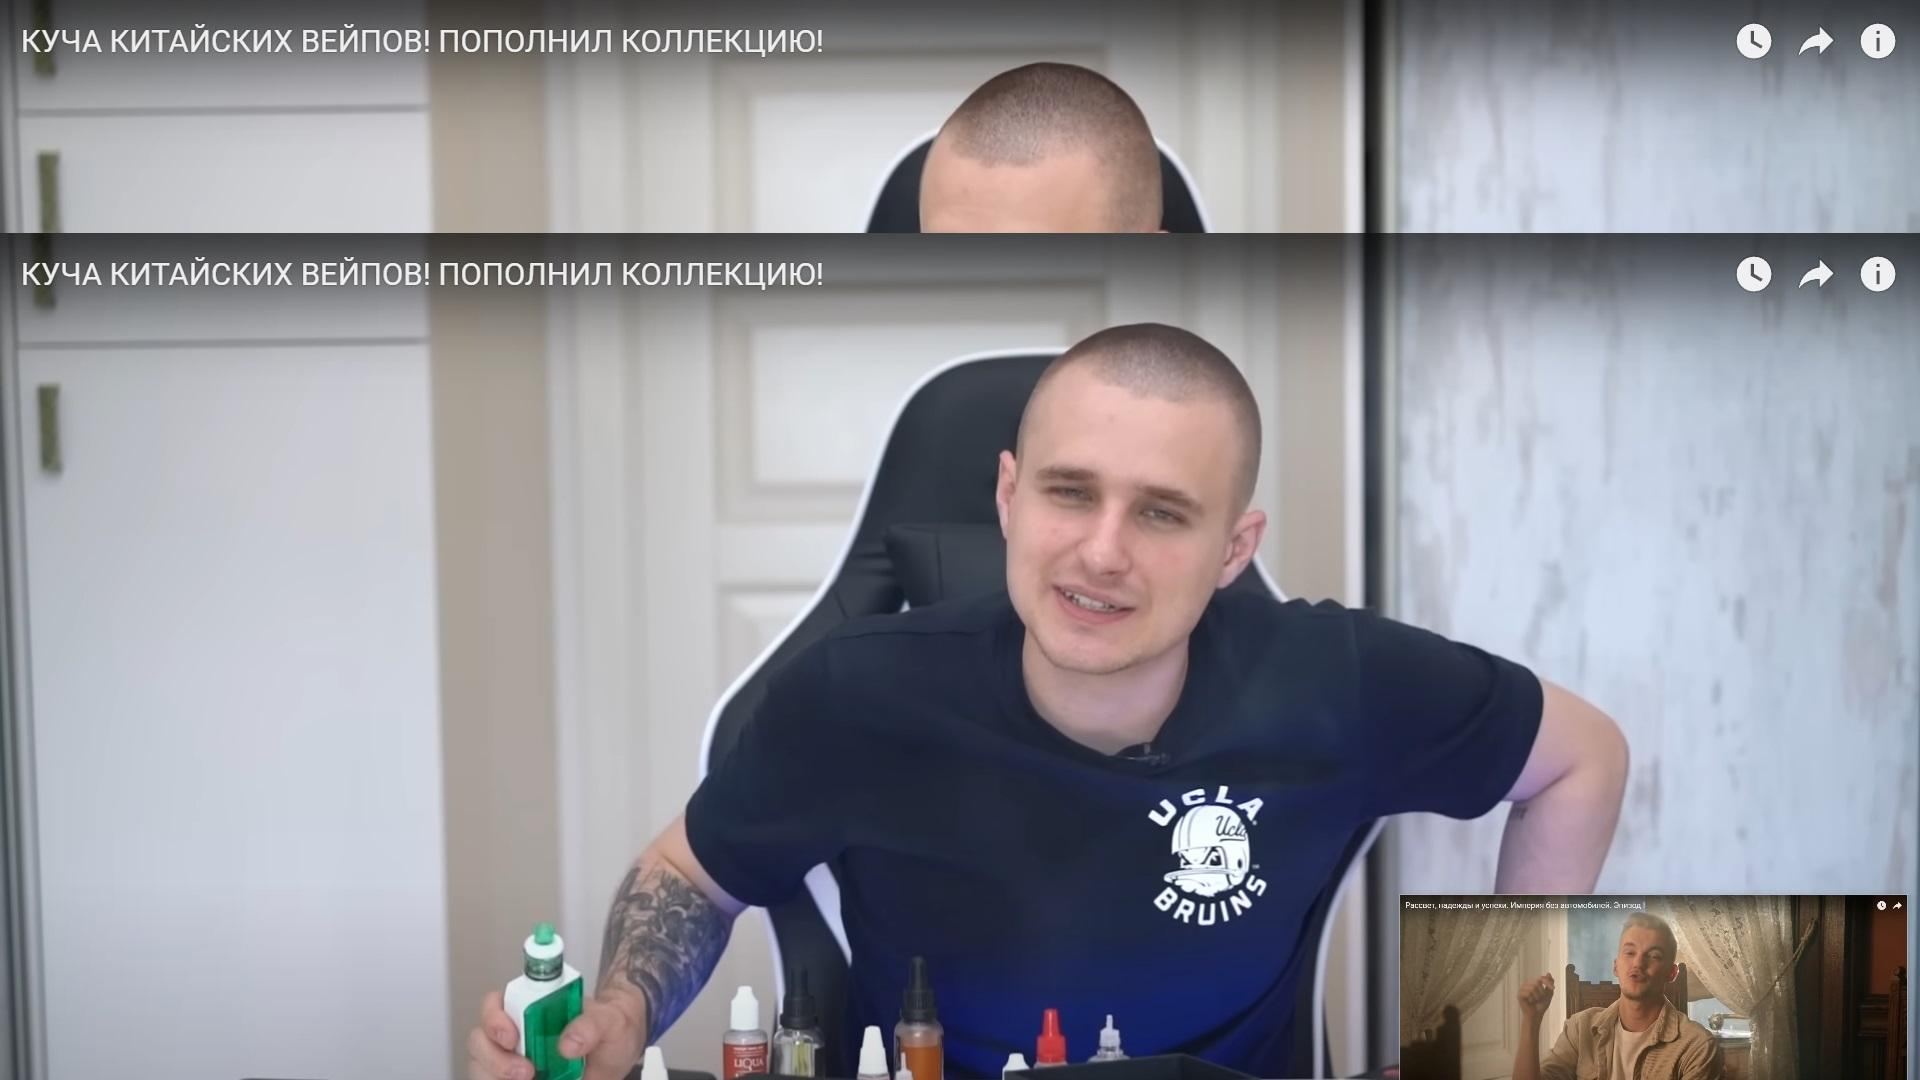Vape: (502, 923, 587, 1079)
